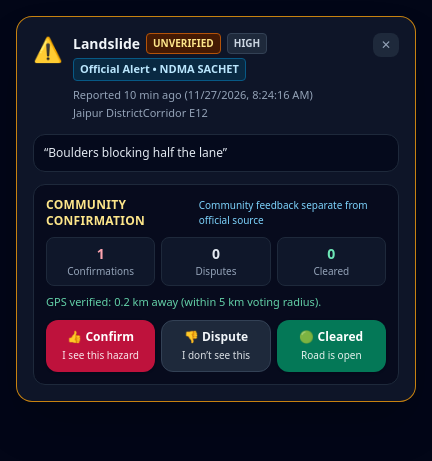
Test: HazardConfirmationCard › distinguishes official imported alerts from community votes and handles duplicate vote errors
Check: the text "Official Alert • NDMA SACHET" is shown, box top-left (73, 58), bottom-right (246, 80)
Check: the text "Community feedback separate from official source" is shown, box top-left (199, 198), bottom-right (386, 228)
Click the button "👎 Dispute I don’t see this" at x=216, y=346, box top-left (161, 320), bottom-right (271, 372)
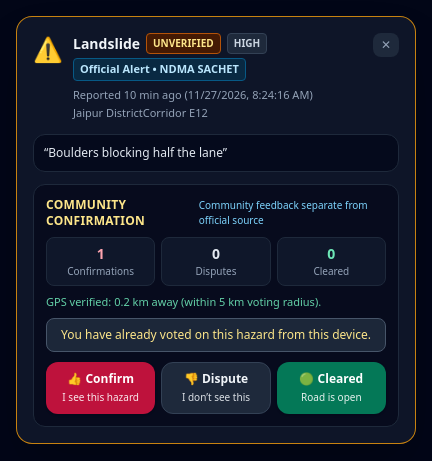
Check: the message shows "already voted", box top-left (61, 326), bottom-right (371, 343)
